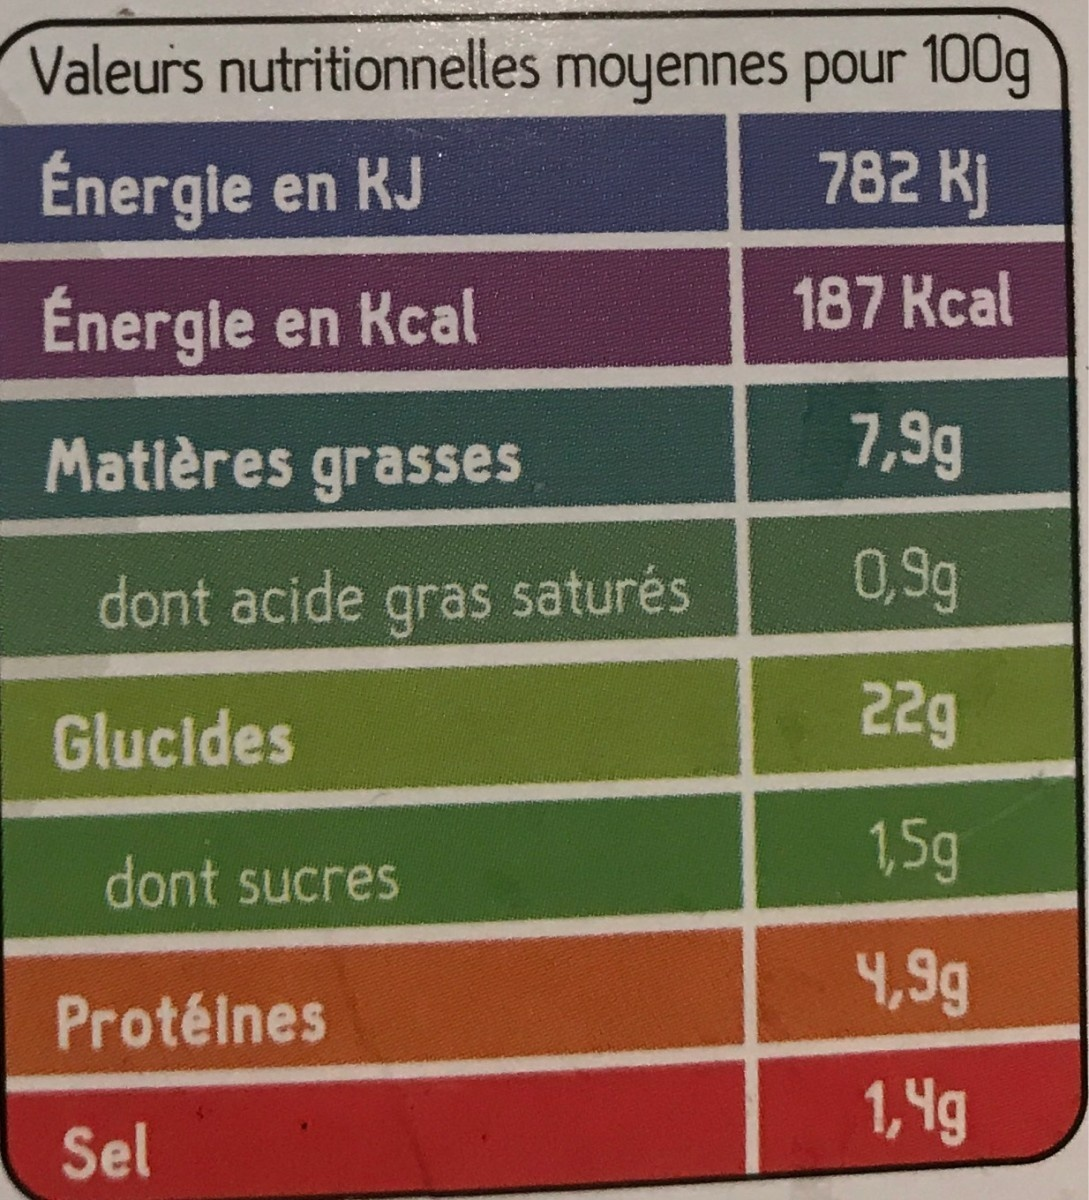column: (43, 124, 697, 1189), (792, 134, 1016, 1159)
table: (1, 5, 1089, 1199)
